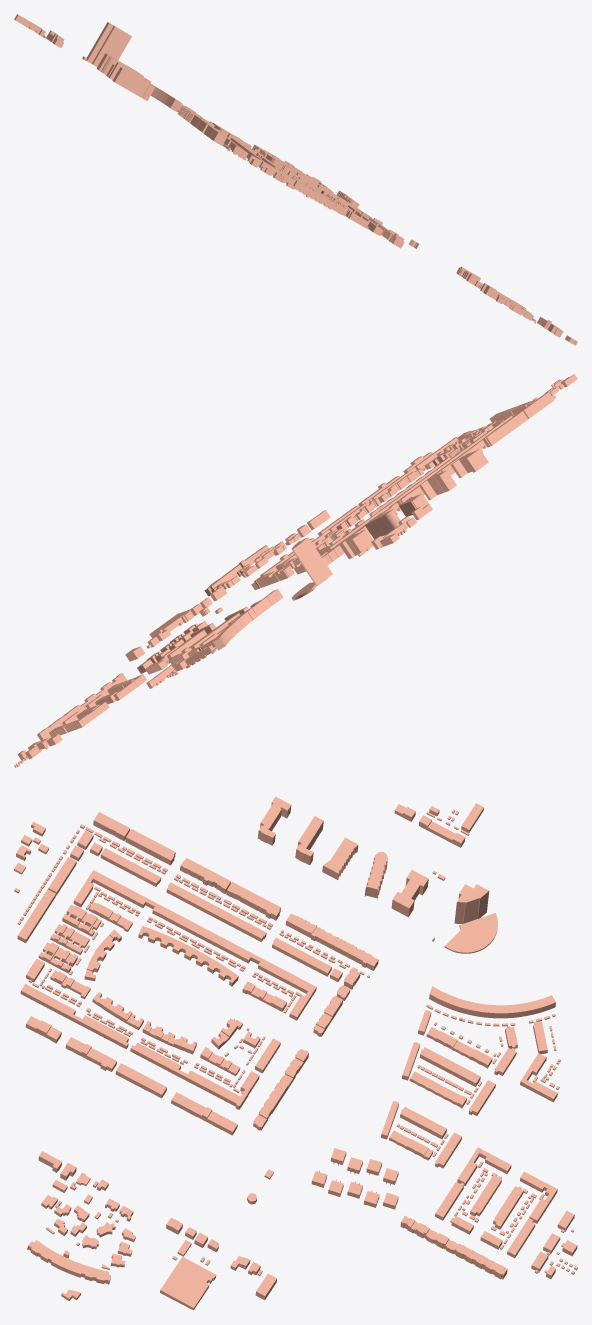
The picture shows the model from 3 angles, top to bottom: view 1: azimuth 30°, elevation 25°; view 2: azimuth 150°, elevation 25°; view 3: azimuth 270°, elevation 25°; orthographic projection. The views are drawn at different scales.
Bounding box in the file's own units: 529 × 405 × 636.
